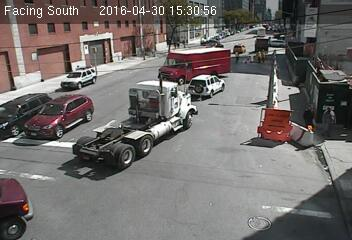neg: (253, 181, 276, 212), (109, 48, 124, 67), (205, 73, 219, 92), (303, 39, 317, 57), (105, 124, 117, 141), (213, 40, 222, 53), (257, 21, 266, 34), (70, 66, 78, 78)
pos: (318, 105, 341, 136), (300, 103, 320, 129), (256, 46, 269, 64), (231, 48, 243, 63), (174, 37, 183, 50), (180, 36, 189, 48)
